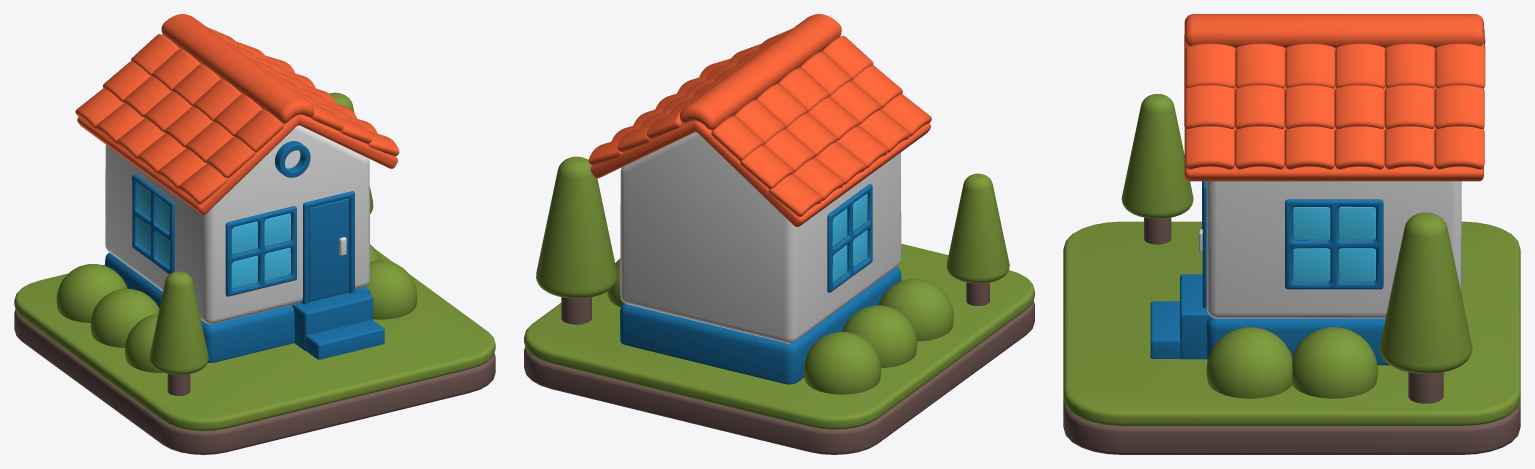
File: house-animated-3d-icon-1687381514437.glb
The picture shows the model from 3 angles, left to right: view 1: azimuth 30°, elevation 25°; view 2: azimuth 150°, elevation 25°; view 3: azimuth 270°, elevation 25°; orthographic projection. The views are drawn at different scales.
Parts seen in each view (by area): view 1: Roof 1, Grass, Home, Soil, Stairs, Base, Leaves, Door, Roof 2, Window Glass 1, Plant 4, Plant 3 (+8 smaller); view 2: Home, Roof 1, Grass, Soil, Base, Leaves.001, Leaves, Plant 3, Roof 2, Plant 5, Plant 4, Window Frame 3 (+3 smaller); view 3: Roof 1, Grass, Home, Soil, Leaves.001, Leaves, Window Glass 2, Plant 1, Plant 2, Roof 2, Window Frame 2, Stairs (+4 smaller).
Part boxes in pixels (<box>): Roof 1: <box>75,14,399,204</box>; Grass: <box>14,249,495,431</box>; Home: <box>105,125,369,324</box>; Soil: <box>14,309,495,454</box>; Stairs: <box>292,288,384,359</box>; Base: <box>105,252,370,362</box>; Leaves: <box>149,271,208,374</box>; Door: <box>309,198,349,301</box>; Roof 2: <box>77,48,397,214</box>; Window Glass 1: <box>231,213,290,288</box>; Plant 4: <box>90,288,159,347</box>; Plant 3: <box>56,264,127,322</box>; Home: <box>620,132,901,343</box>; Roof 1: <box>588,14,931,216</box>; Grass: <box>524,243,1034,429</box>; Soil: <box>524,300,1034,454</box>; Base: <box>620,267,901,384</box>; Leaves.001: <box>536,156,617,298</box>; Leaves: <box>946,173,1009,283</box>; Plant 3: <box>803,331,881,394</box>; Roof 2: <box>590,51,930,226</box>; Plant 5: <box>878,278,953,341</box>; Plant 4: <box>842,305,917,367</box>; Window Frame 3: <box>827,184,872,292</box>; Roof 1: <box>1184,14,1485,169</box>; Grass: <box>1063,221,1520,426</box>; Home: <box>1206,181,1461,318</box>; Soil: <box>1063,399,1520,454</box>; Leaves.001: <box>1379,212,1472,373</box>; Leaves: <box>1121,94,1193,218</box>; Window Glass 2: <box>1292,206,1375,281</box>; Plant 1: <box>1206,327,1292,398</box>; Plant 2: <box>1292,327,1377,398</box>; Roof 2: <box>1184,34,1483,181</box>; Window Frame 2: <box>1285,199,1383,289</box>; Stairs: <box>1150,274,1210,359</box>.
Bounding box in the file's own units: 1.74 × 1.42 × 1.71.
